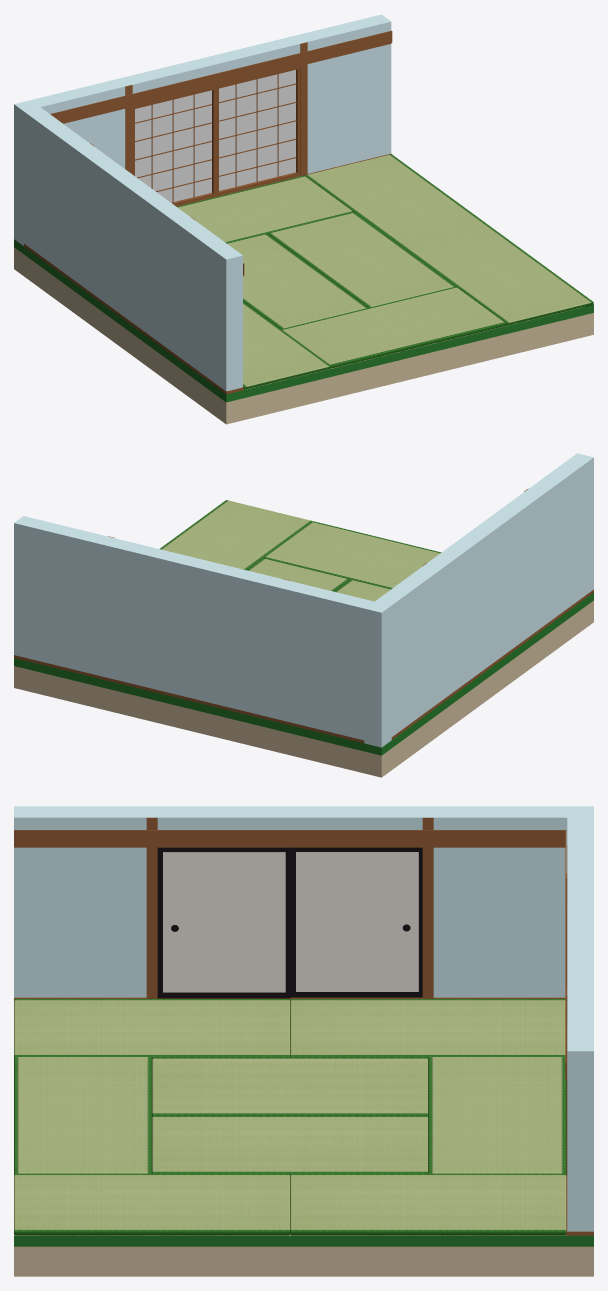
File: washitsu.glb
The picture shows the model from 3 angles, top to bottom: view 1: azimuth 30°, elevation 25°; view 2: azimuth 150°, elevation 25°; view 3: azimuth 270°, elevation 25°; orthographic projection. The views are drawn at different scales.
Visible parts, largest first — view 1: Wall.001, Wall, Floor, Tatami.005, Tatami.003, Tatami.007, Tatami.002, Plane.001, Plane, Tatami.006, Tatami.004, Carpet (+8 smaller); view 2: Wall, Wall.001, Floor, Tatami.005, Tatami.003, Carpet, Cube.006, Tatami.007, Tatami.006; view 3: Wall.001, Cube.004, Cube.005, Floor, Tatami.002, Tatami.003, Tatami.006, Tatami.007, Tatami.004, Tatami.001, Tatami, Tatami.005 (+2 smaller).
Part boxes in pixels (x1=…): Wall.001: x1=24, y1=107, x2=244, y2=394; Wall: x1=32, y1=14, x2=392, y2=206; Floor: x1=14, y1=247, x2=593, y2=424; Tatami.005: x1=281, y1=286, x2=505, y2=368; Tatami.003: x1=406, y1=228, x2=593, y2=325; Tatami.007: x1=268, y1=212, x2=455, y2=307; Tatami.002: x1=304, y1=154, x2=491, y2=249; Plane.001: x1=219, y1=70, x2=295, y2=190; Plane: x1=135, y1=90, x2=211, y2=202; Tatami.006: x1=227, y1=234, x2=367, y2=328; Tatami.004: x1=177, y1=175, x2=354, y2=243; Carpet: x1=14, y1=239, x2=593, y2=402; Wall: x1=14, y1=516, x2=373, y2=743; Wall.001: x1=375, y1=453, x2=593, y2=739; Floor: x1=14, y1=600, x2=593, y2=777; Tatami.005: x1=264, y1=521, x2=441, y2=589; Tatami.003: x1=160, y1=500, x2=313, y2=570; Carpet: x1=14, y1=592, x2=593, y2=755; Cube.006: x1=364, y1=601, x2=391, y2=747; Tatami.007: x1=247, y1=558, x2=349, y2=591; Tatami.006: x1=334, y1=579, x2=390, y2=601; Wall.001: x1=14, y1=806, x2=566, y2=999; Cube.004: x1=157, y1=847, x2=290, y2=998; Cube.005: x1=290, y1=847, x2=422, y2=997; Floor: x1=14, y1=1234, x2=593, y2=1276; Tatami.002: x1=290, y1=1173, x2=566, y2=1235; Tatami.003: x1=14, y1=1173, x2=290, y2=1235; Tatami.006: x1=152, y1=1057, x2=428, y2=1115; Tatami.007: x1=152, y1=1115, x2=428, y2=1174; Tatami.004: x1=428, y1=1057, x2=566, y2=1173; Tatami.001: x1=14, y1=999, x2=290, y2=1057; Tatami: x1=290, y1=999, x2=565, y2=1057; Tatami.005: x1=14, y1=1057, x2=151, y2=1173.
Bounding box in the file's own units: 5.25 × 2.25 × 5.25.
6 materials, 2 textured.
